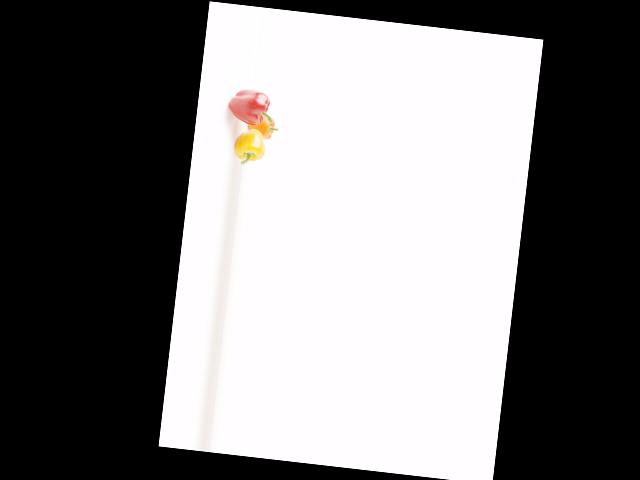bell_pepper: (222, 85, 280, 129)
